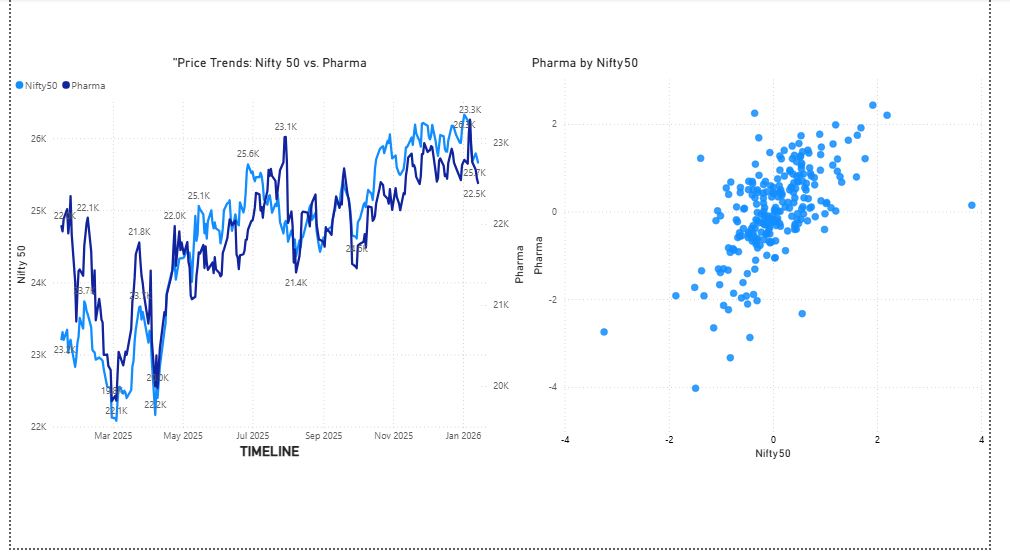

What the dashboard file says about the page in this screenshot:
{"tool":"powerbi","page":{"name":"Page 1","canvas":[1280,720],"ordinal":0},"visuals":[{"type":"lineChart","title":"\"Price Trends: Nifty 50 vs. Pharma","fields":{"Y":["Sum(Raw_Prices.Nifty50)"],"Category":["Raw_Prices.Date.Variation.Date Hierarchy.Year","Raw_Prices.Date.Variation.Date Hierarchy.Quarter","Raw_Prices.Date.Variation.Date Hierarchy.Month","Raw_Prices.Date.Variation.Date Hierarchy.Day"],"Y2":["Sum(Raw_Prices.Pharma)"]},"box":[0,74.9,677.4,534.9],"z":0},{"type":"scatterChart","fields":{"X":["Daily_Returns.Nifty50"],"Y":["Sum(Daily_Returns.Pharma)"]},"box":[677.4,74.9,602.4,534.9],"z":1}]}

Visuals, with their boxes in screenshot pixels (x1, y1, x2, y2), scaled from the page's 1280x720 canvas onto the 1010x555 screenshot:
""Price Trends: Nifty 50 vs. Pharma" lineChart: x1=0, y1=58, x2=535, y2=470
scatterChart - Daily_Returns.Nifty50 x Sum(Daily_Returns.Pharma): x1=535, y1=58, x2=1009, y2=470
